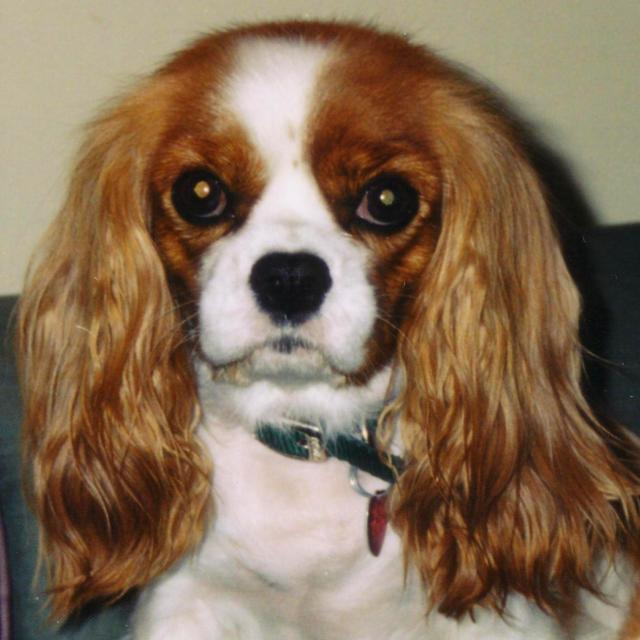blenheim_spaniel: (20, 22, 638, 638)
